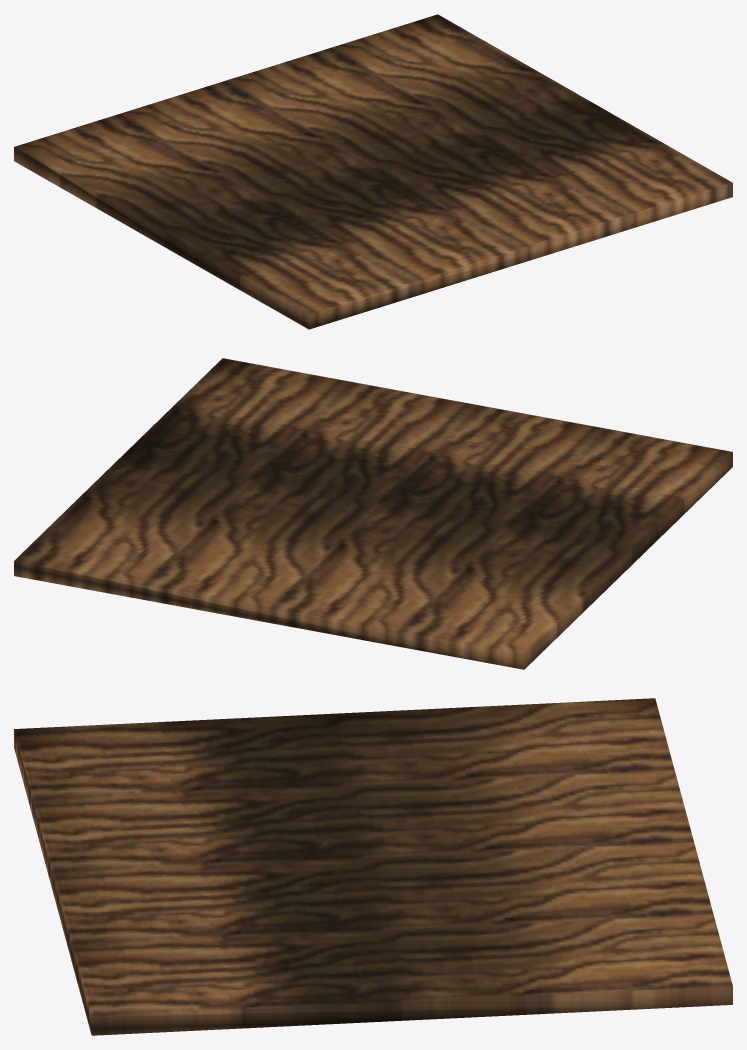
Rendered from SWORDLIGHT20_MAINCAVPLAT01CONV03.obj.
3 renders of one model, top to bottom at view 1: azimuth 30°, elevation 25°; view 2: azimuth 150°, elevation 25°; view 3: azimuth 270°, elevation 25°, orthographic. The views are drawn at different scales.
Visible parts, largest first — view 1: cavPlat01Conv03; view 2: cavPlat01Conv03; view 3: cavPlat01Conv03.
Part boxes in pixels (x1=…): cavPlat01Conv03: x1=14, y1=14, x2=732, y2=329; cavPlat01Conv03: x1=14, y1=358, x2=732, y2=669; cavPlat01Conv03: x1=14, y1=698, x2=732, y2=1035.
Size of the model in its own units: 922 by 25 by 878.
